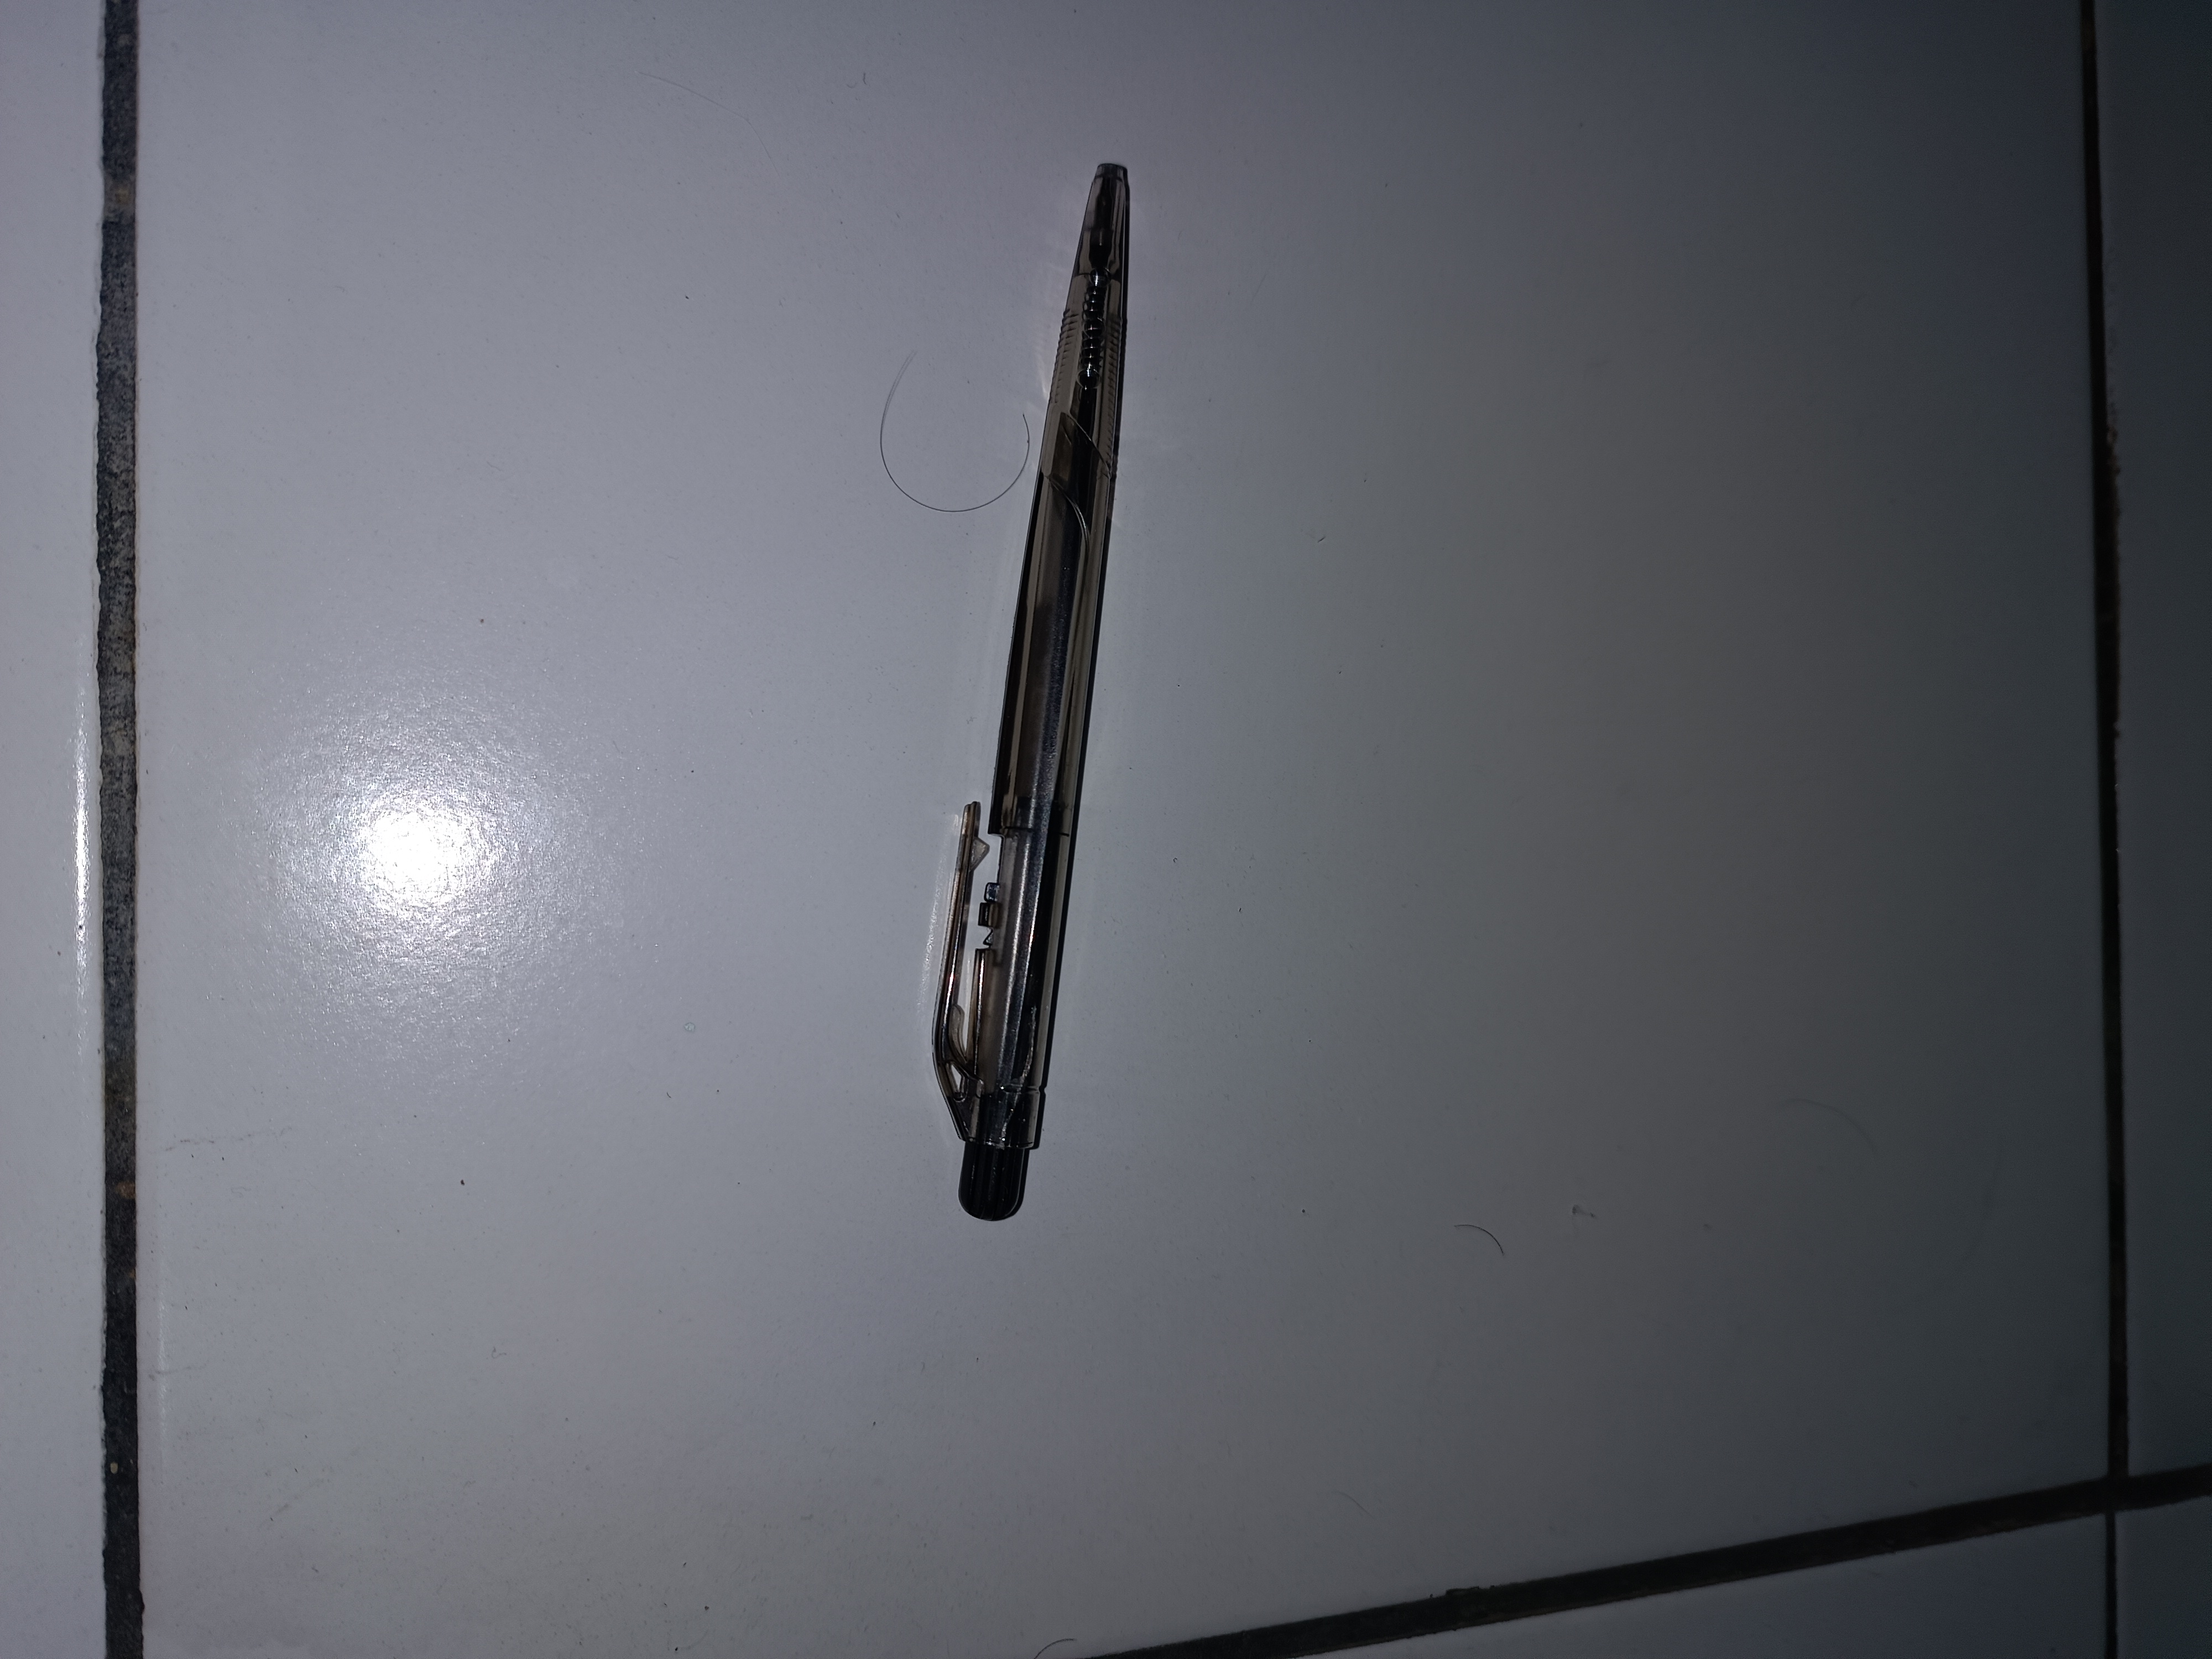Pen: (782, 118, 1223, 1236)
